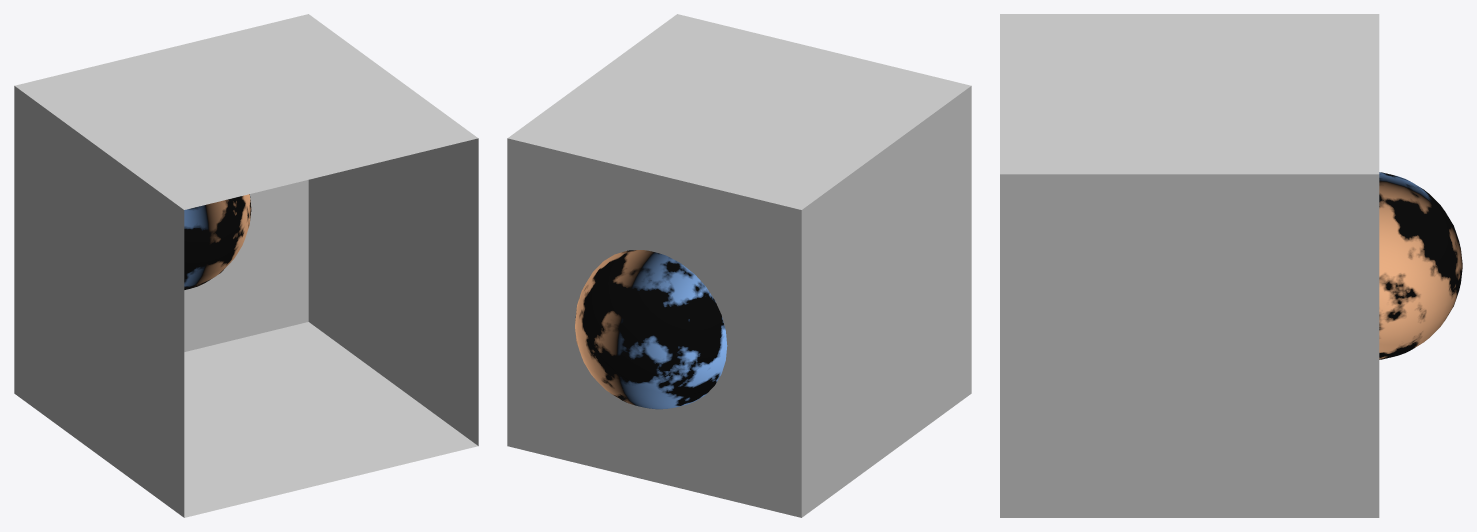
Rendered from sphere_emissive.gltf.
3 renders of one model, left to right at view 1: azimuth 30°, elevation 25°; view 2: azimuth 150°, elevation 25°; view 3: azimuth 270°, elevation 25°, orthographic. The views are drawn at different scales.
Visible parts, largest first — view 1: Plane.004, Plane.001, Plane.003, Plane, Plane.002, Sphere; view 2: Plane.002, Plane.004, Plane.001, Sphere; view 3: Plane.003, Plane.001, Sphere.
Boxes of the visible parts, left/top/right/bottom form: Plane.004: left=14, top=86, right=184, bottom=517; Plane.001: left=15, top=14, right=477, bottom=209; Plane.003: left=308, top=138, right=478, bottom=445; Plane: left=184, top=322, right=477, bottom=517; Plane.002: left=184, top=180, right=308, bottom=351; Sphere: left=184, top=194, right=251, bottom=289; Plane.002: left=507, top=138, right=801, bottom=517; Plane.004: left=801, top=86, right=971, bottom=517; Plane.001: left=508, top=14, right=970, bottom=209; Sphere: left=575, top=250, right=727, bottom=409; Plane.003: left=1000, top=174, right=1379, bottom=517; Plane.001: left=1000, top=14, right=1379, bottom=174; Sphere: left=1379, top=172, right=1462, bottom=359.
Size of the model in its own units: 4 by 4 by 4.88.
2 materials, 1 textured.
